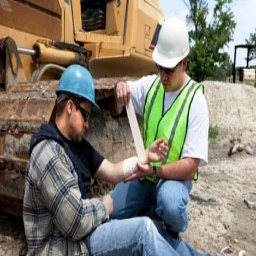helmet: (54, 63, 102, 113), (150, 18, 194, 70)
no-vest: (25, 141, 99, 256)
person: (128, 18, 212, 243), (22, 65, 116, 256)
vest: (132, 76, 200, 183)
